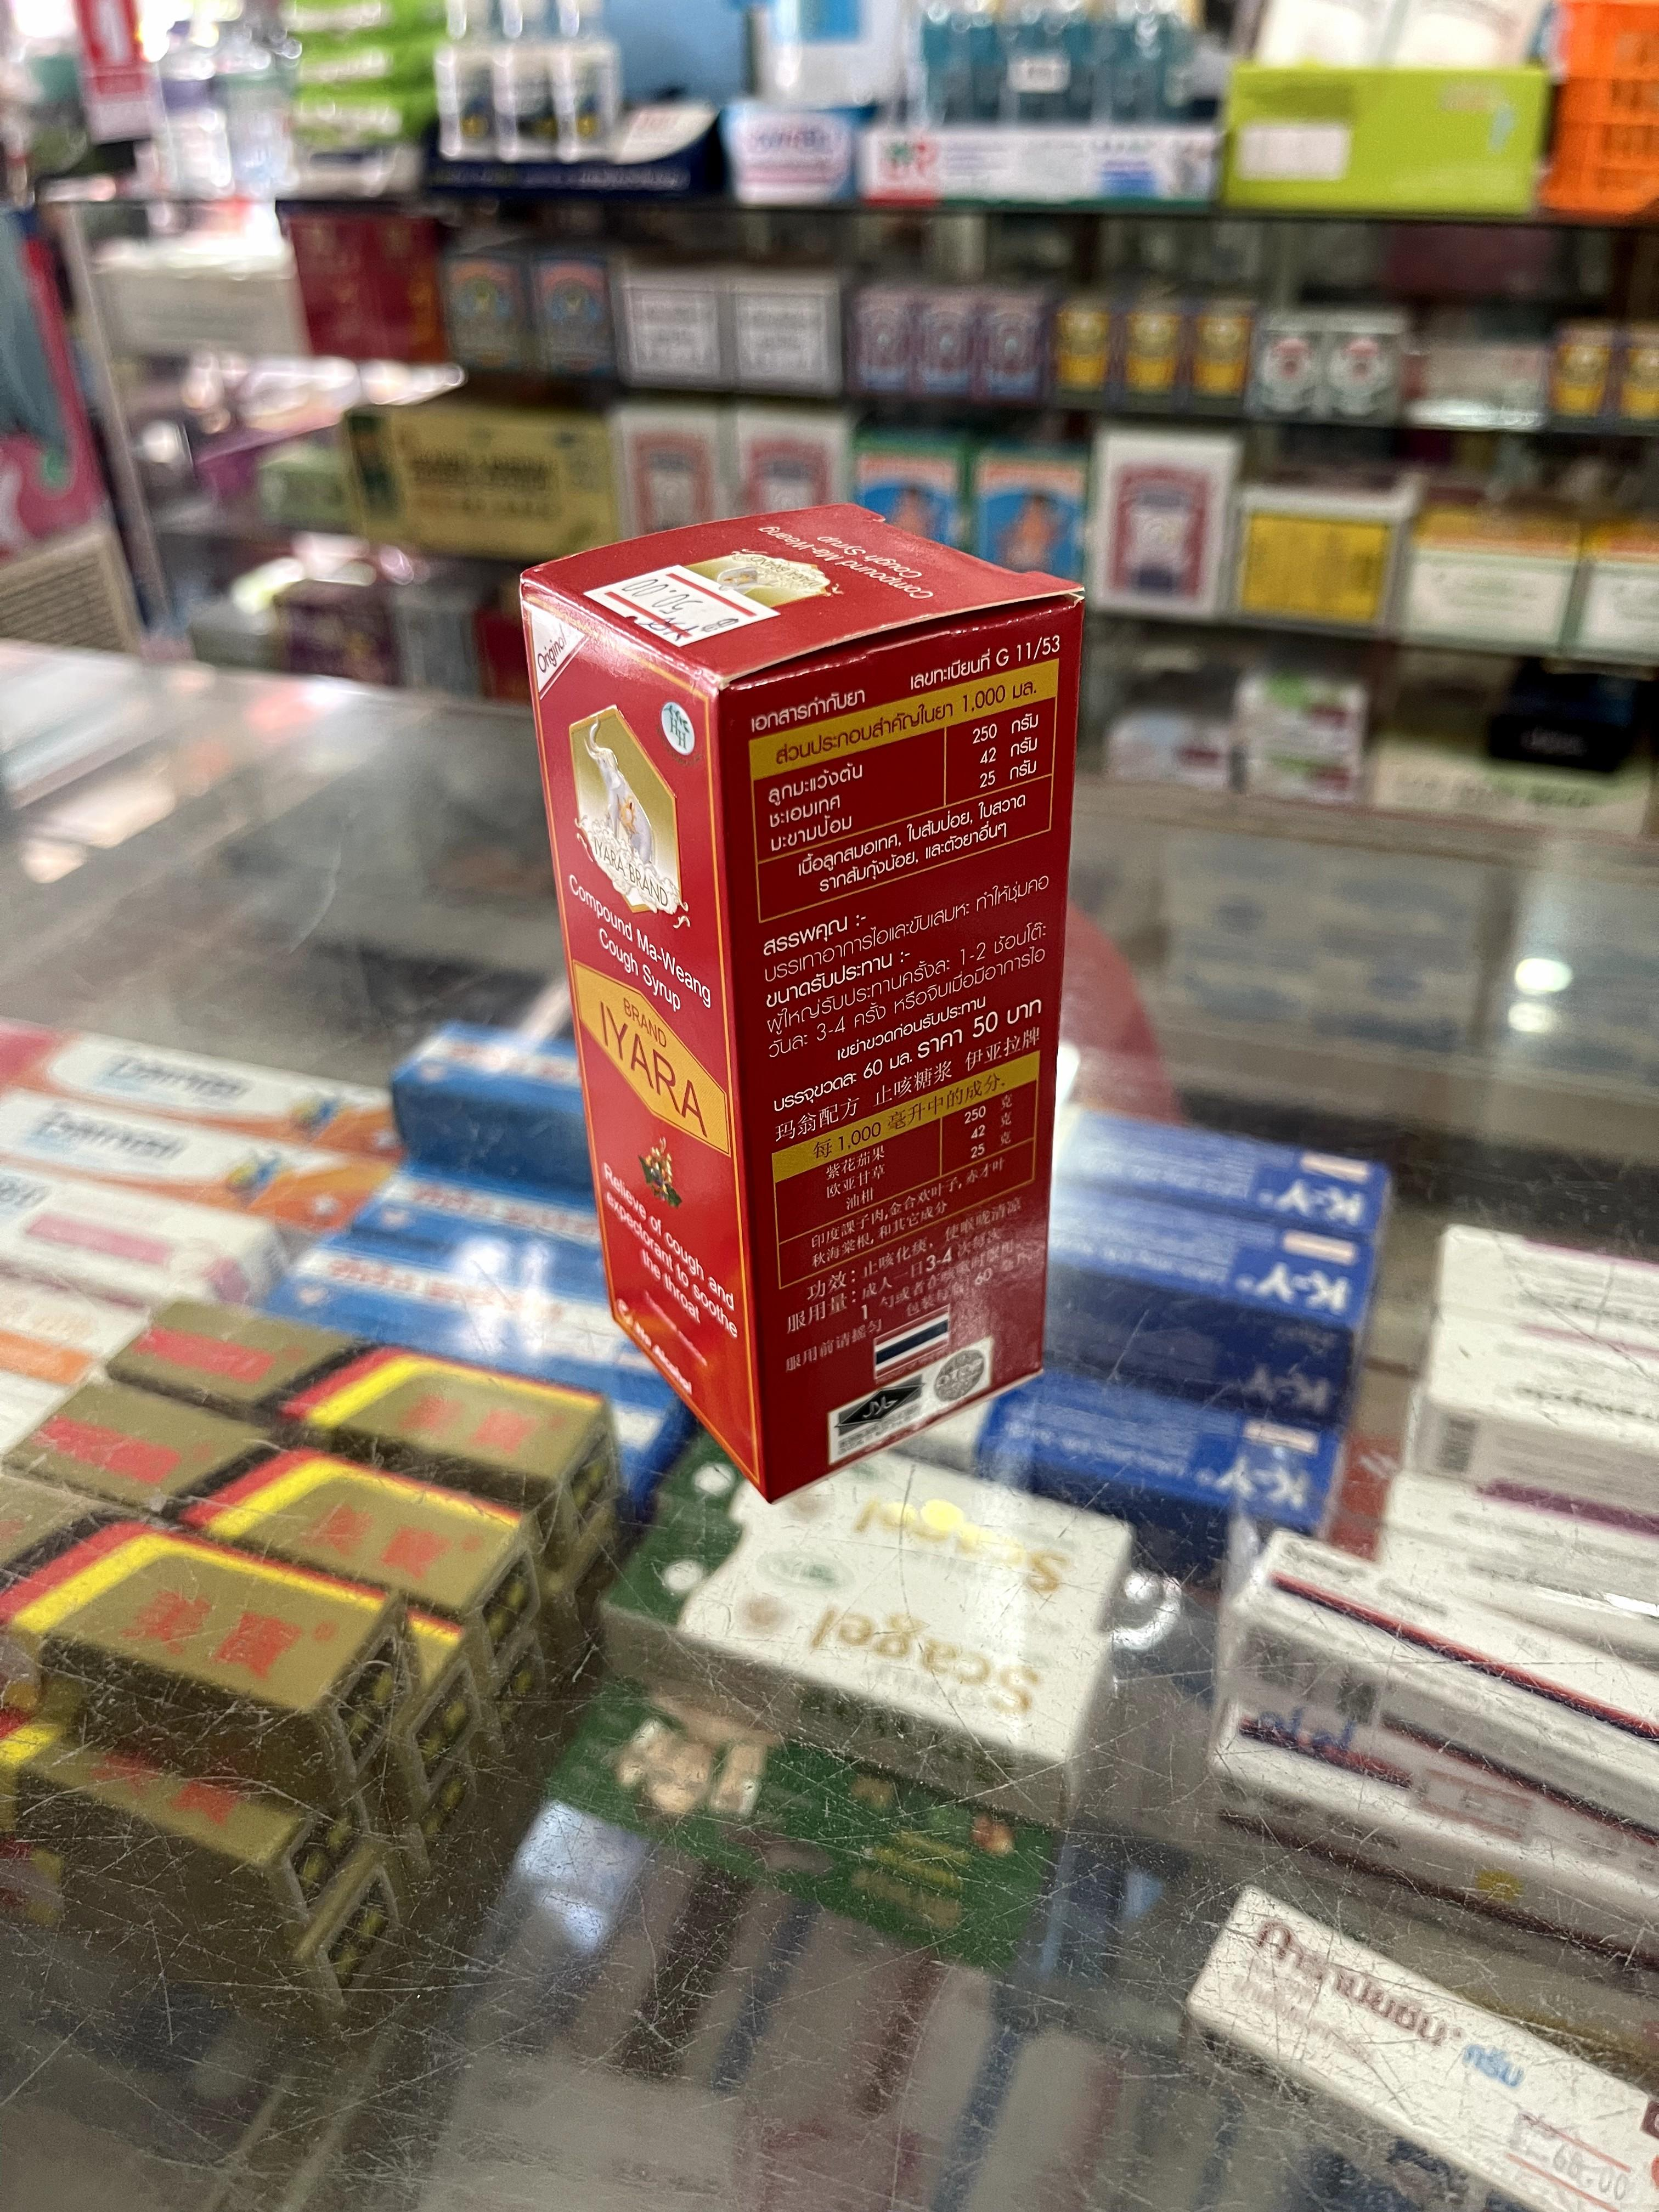Iyara: (521, 510, 1075, 1494)
